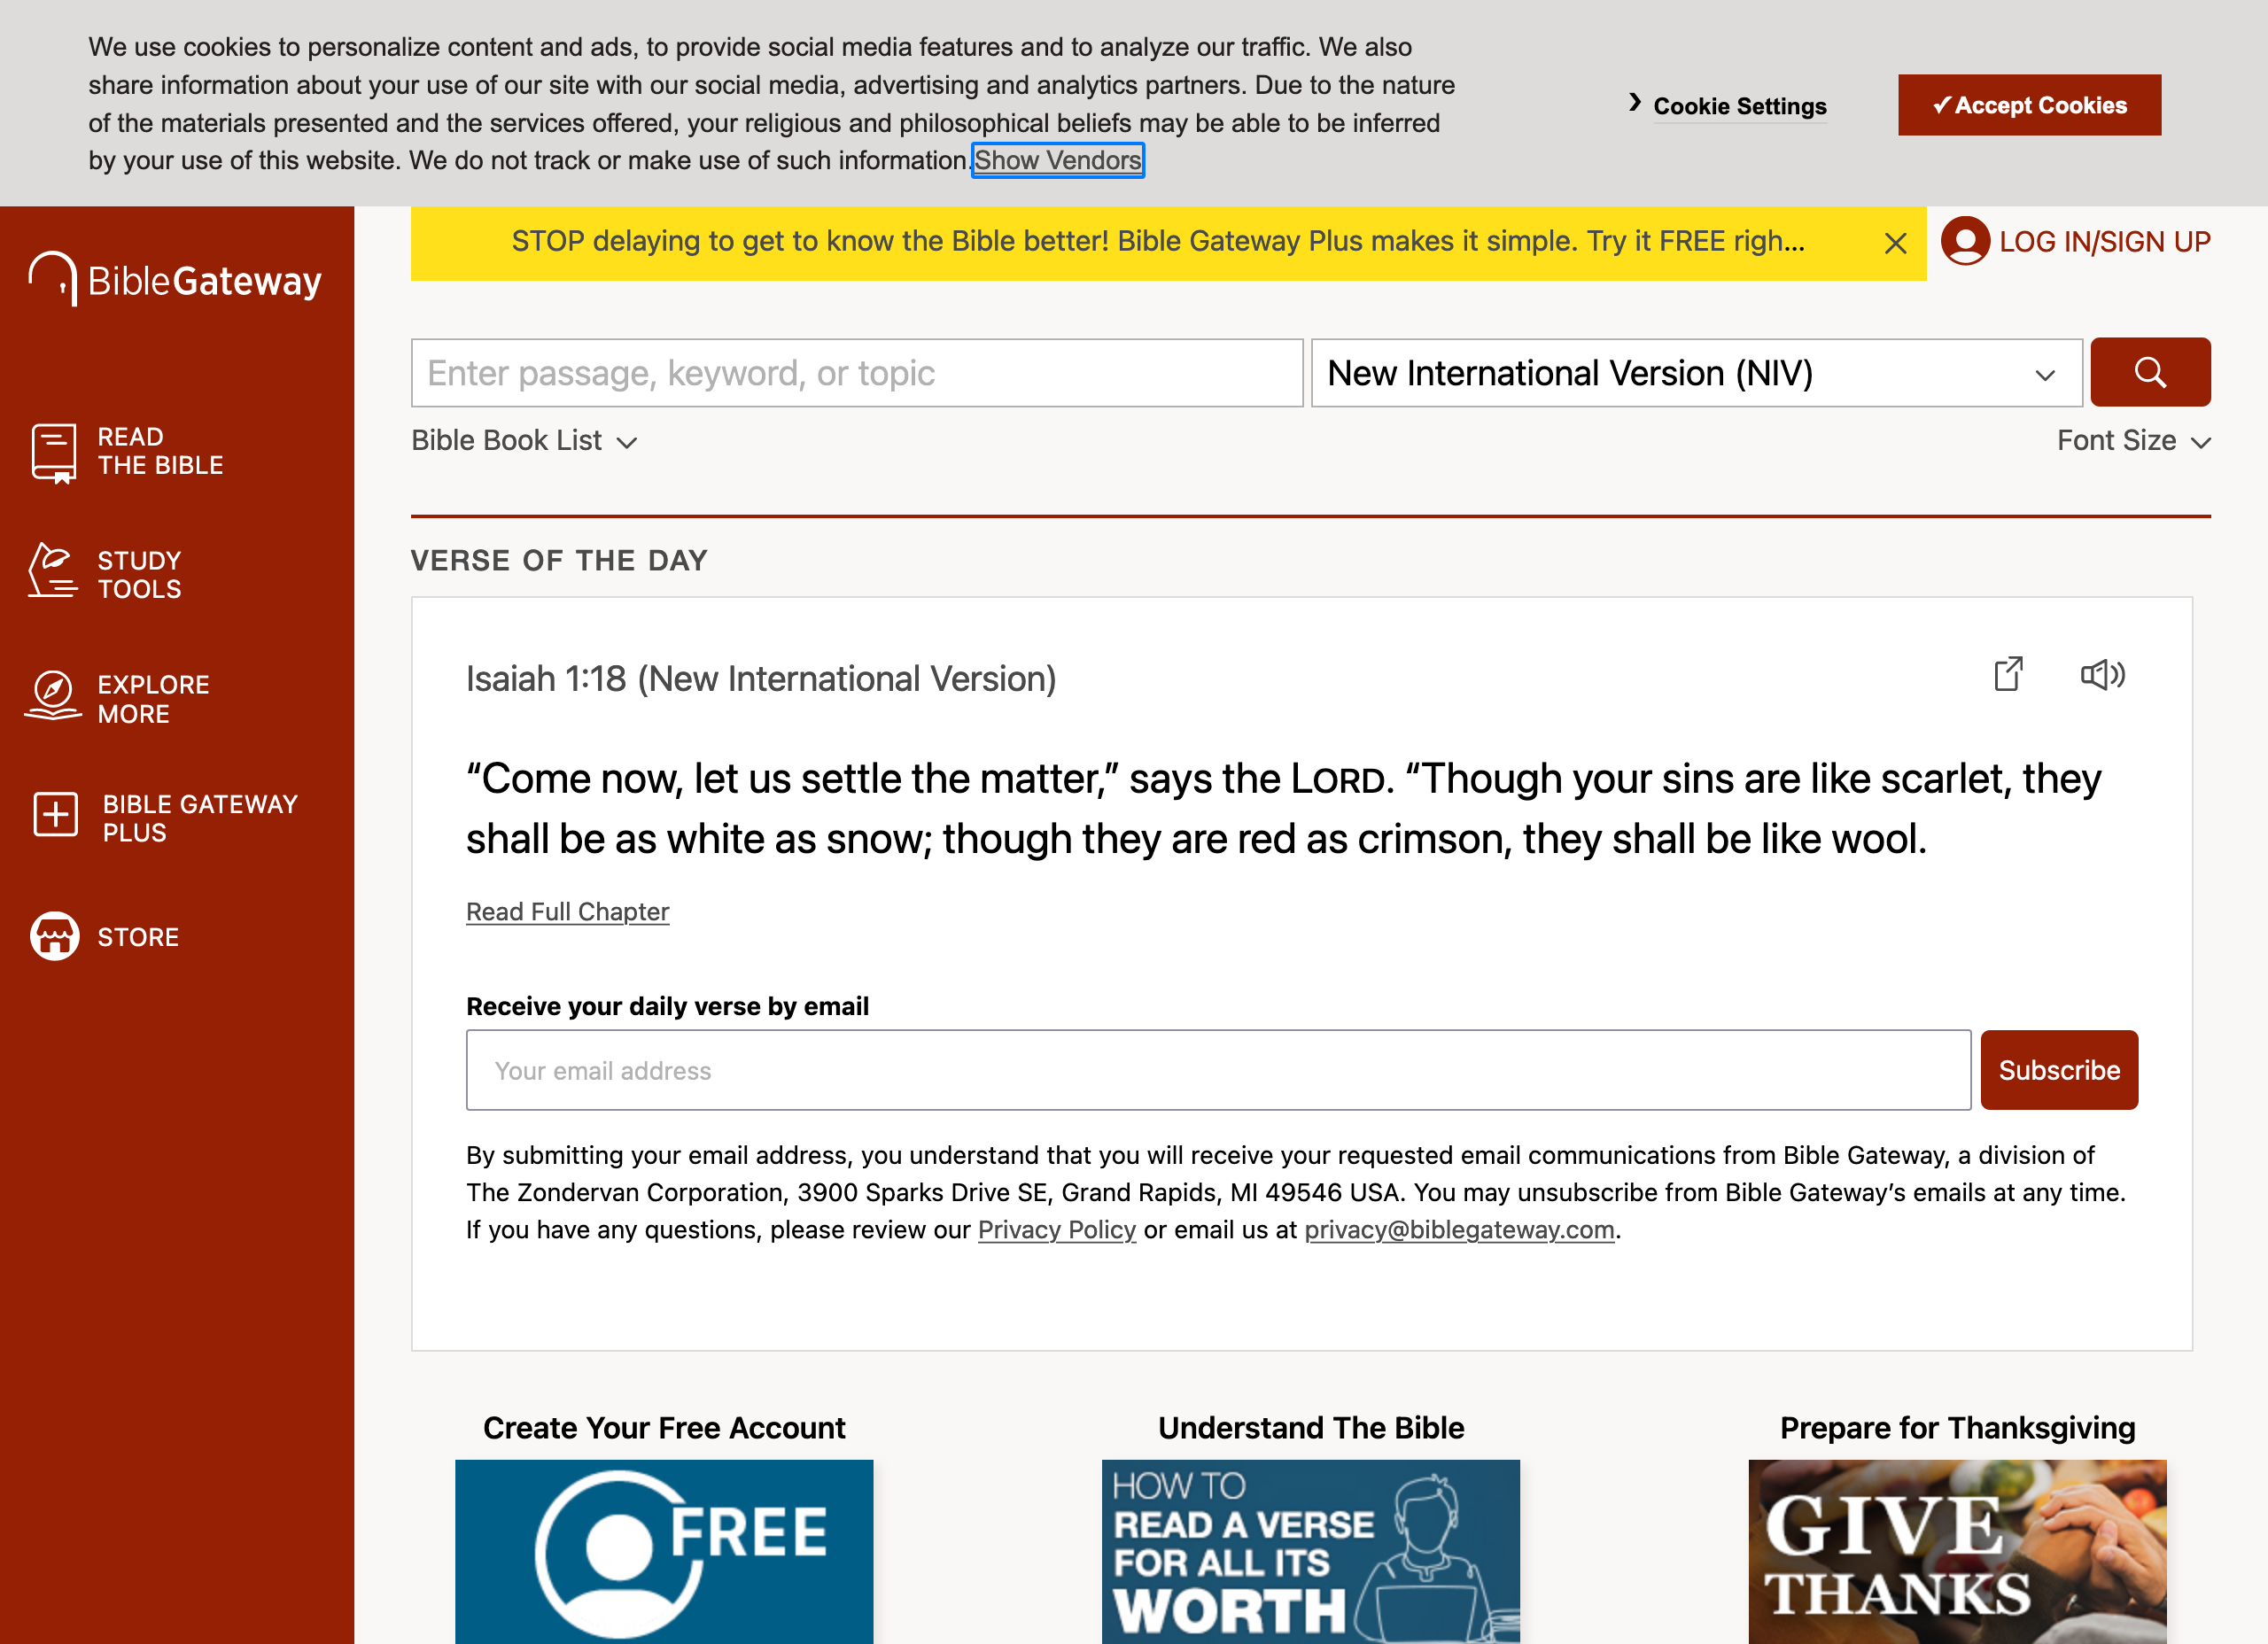Login: (1995, 220, 2090, 255)
